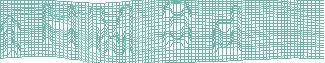3: (160, 1, 194, 50)
H: (41, 2, 78, 48)
M: (86, 5, 135, 58)
d: (210, 5, 244, 56)
t: (1, 14, 23, 59)
